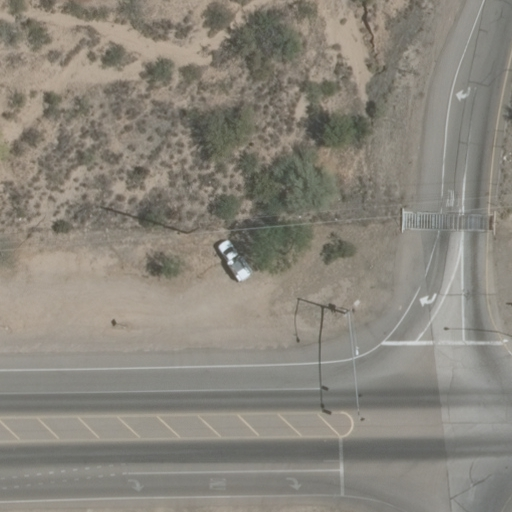DT: (179, 215, 208, 243)
